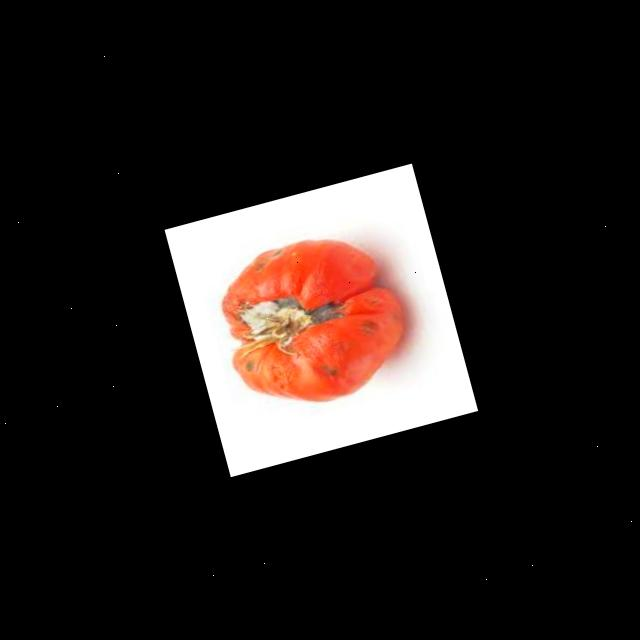tomato: (200, 216, 422, 430)
